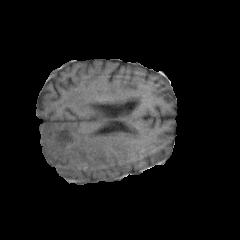glioma: (40, 96, 140, 177)
